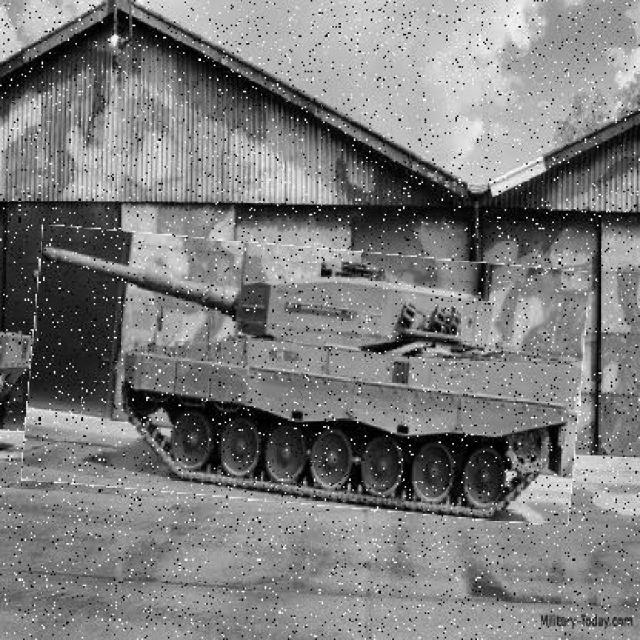Tank: (27, 238, 586, 516)
